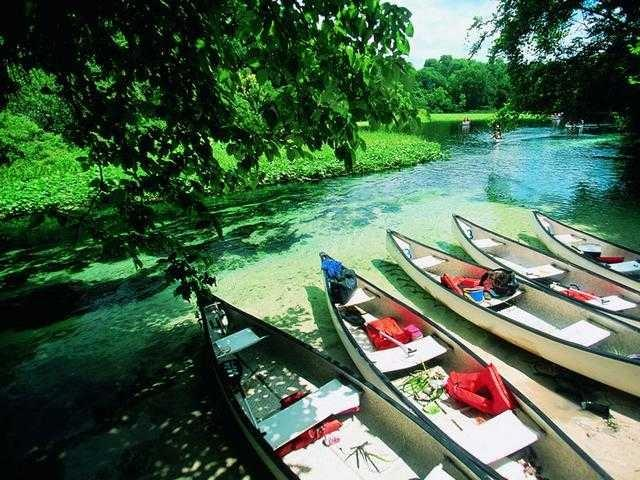kayak: (196, 289, 478, 479), (316, 252, 543, 475), (383, 230, 639, 399), (452, 212, 640, 330), (530, 210, 640, 291)
